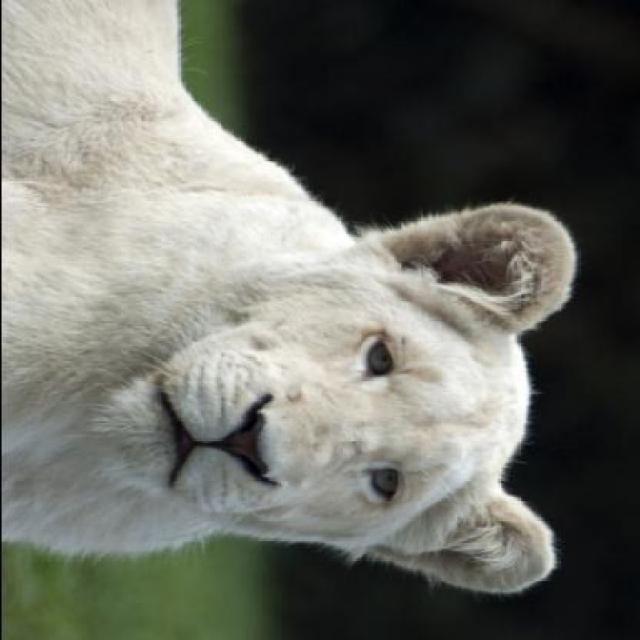Lion: (1, 6, 618, 603)
